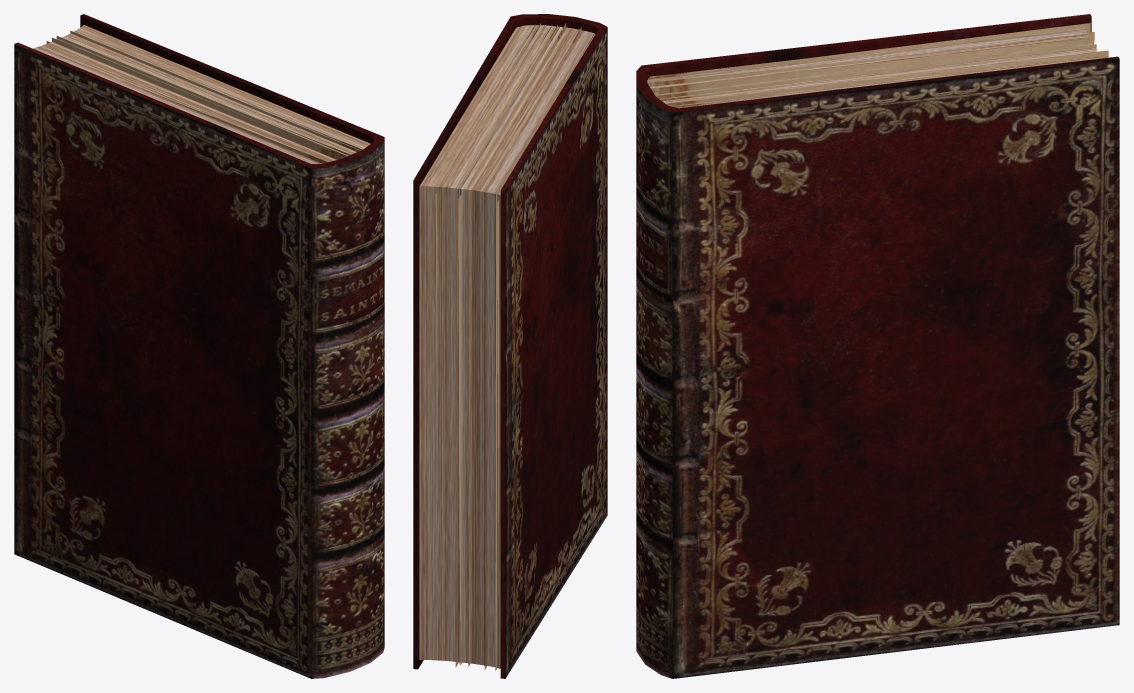
The model's file is book001.glb.
The picture shows the model from 3 angles, left to right: view 1: azimuth 30°, elevation 25°; view 2: azimuth 150°, elevation 25°; view 3: azimuth 270°, elevation 25°; orthographic projection. The views are drawn at different scales.
Visible parts, largest first — view 1: book1; view 2: book1; view 3: book1.
Part boxes in pixels (x1=…): book1: x1=14, y1=14, x2=384, y2=678; book1: x1=413, y1=14, x2=607, y2=678; book1: x1=636, y1=14, x2=1119, y2=678.
Bounding box in the file's own units: 0.805 × 2.16 × 1.66.
Materials: 1 (1 with a texture image).
